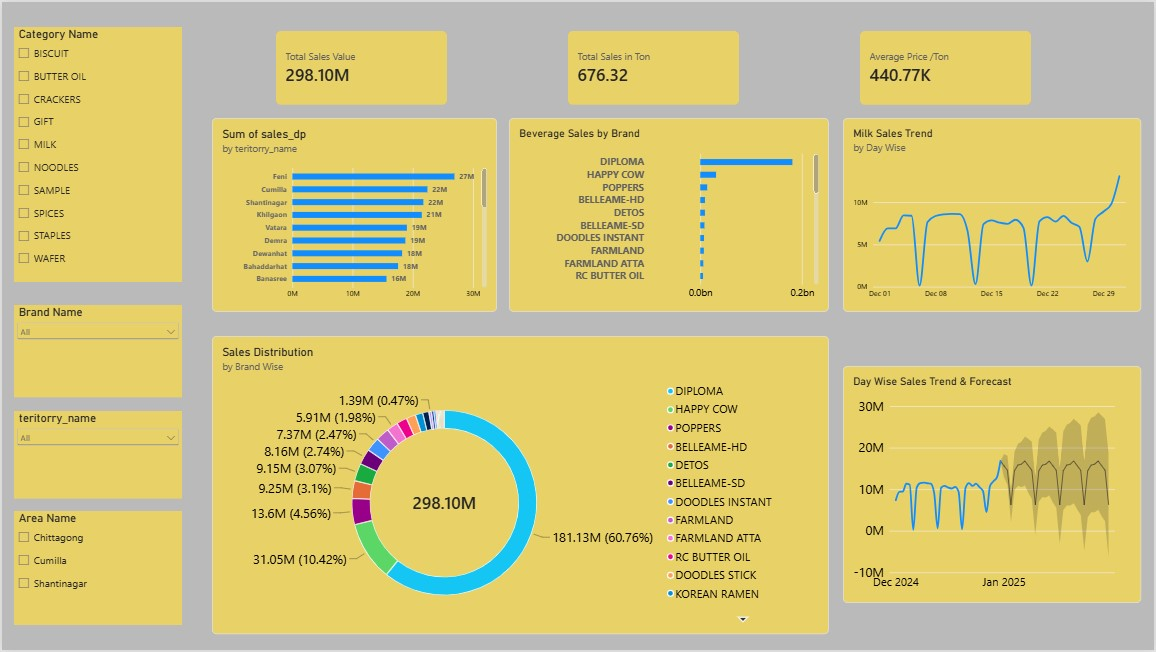

This screenshot's page, from the dashboard's own definition file:
{"tool":"powerbi","page":{"name":"Page 1","canvas":[1920,1080],"ordinal":0},"visuals":[{"type":"slicer","fields":{"Values":["Database.area_name"]},"box":[20,848.3,280,190],"z":0},{"type":"slicer","fields":{"Values":["Database.teritorry_name"]},"box":[20,681.7,280,146],"z":1},{"type":"slicer","fields":{"Values":["Database.category_name"]},"box":[20,41.7,280,425],"z":2},{"type":"slicer","fields":{"Values":["Database.brand_name"]},"box":[20,505,280,154],"z":3},{"type":"cardVisual","fields":{"Data":["Sum(Database.sales_dp)"]},"box":[456.7,48.3,285,123.3],"z":4},{"type":"cardVisual","fields":{"Data":["Sum(Database.sales_in_ton)"]},"box":[943.3,48.3,285,123.3],"z":5},{"type":"cardVisual","fields":{"Data":["Database.Average Price /Ton"]},"box":[1430,48.3,285,123.3],"z":6},{"type":"clusteredBarChart","fields":{"Category":["Database.teritorry_name"],"Y":["Sum(Database.sales_dp)"]},"box":[350,192.9,475,323.3],"z":7},{"type":"lineChart","fields":{"Y":["Sum(Database.sales_dp)"],"Category":["Database.sales_date"]},"box":[1401.7,192.9,496.7,323.3],"z":8},{"type":"donutChart","fields":{"Category":["Database.brand_name"],"Y":["Sum(Database.sales_dp)"]},"box":[350,556.7,1028.3,496.7],"z":9},{"type":"clusteredBarChart","title":"Beverage Sales by Brand","fields":{"Category":["Database.brand_name"],"Y":["Sum(Database.sales_dp)"]},"box":[845,192.9,533.3,323.3],"z":10},{"type":"lineChart","title":"Day Wise Sales Trend & Forecast","fields":{"Category":["Database.sales_date"],"Y":["Sum(Database.sales_dp)"]},"box":[1401.7,606.7,496.7,395],"z":11}]}

Visuals, with their boxes in screenshot pixels (x1, y1, x2, y2), scaled from the page's 1920x1080 canvas onto the 1156x652 screenshot:
slicer - Database.area_name: left=12, top=512, right=181, bottom=627
slicer - Database.teritorry_name: left=12, top=412, right=181, bottom=500
slicer - Database.category_name: left=12, top=25, right=181, bottom=282
slicer - Database.brand_name: left=12, top=305, right=181, bottom=398
cardVisual - Sum(Database.sales_dp): left=275, top=29, right=447, bottom=104
cardVisual - Sum(Database.sales_in_ton): left=568, top=29, right=740, bottom=104
cardVisual - Database.Average Price /Ton: left=861, top=29, right=1033, bottom=104
clusteredBarChart - Database.teritorry_name x Sum(Database.sales_dp): left=211, top=116, right=497, bottom=312
lineChart - Sum(Database.sales_dp) x Database.sales_date: left=844, top=116, right=1143, bottom=312
donutChart - Database.brand_name x Sum(Database.sales_dp): left=211, top=336, right=830, bottom=636
"Beverage Sales by Brand" clusteredBarChart: left=509, top=116, right=830, bottom=312
"Day Wise Sales Trend & Forecast" lineChart: left=844, top=366, right=1143, bottom=605
